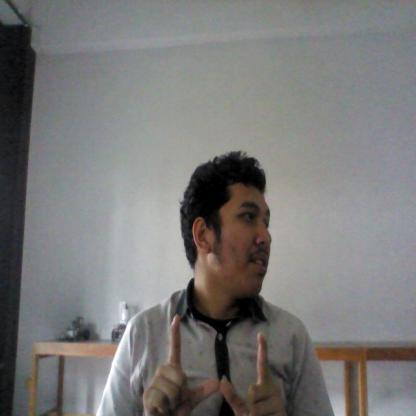W: (142, 311, 285, 416)
